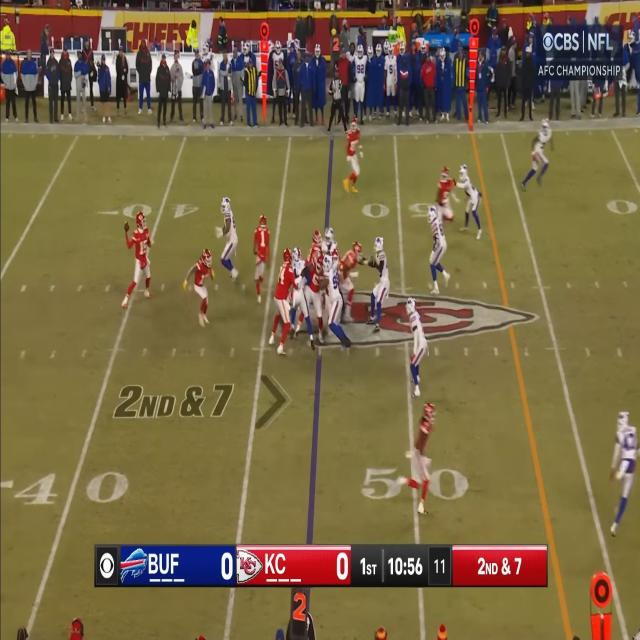Ball: (124, 220, 130, 232)
